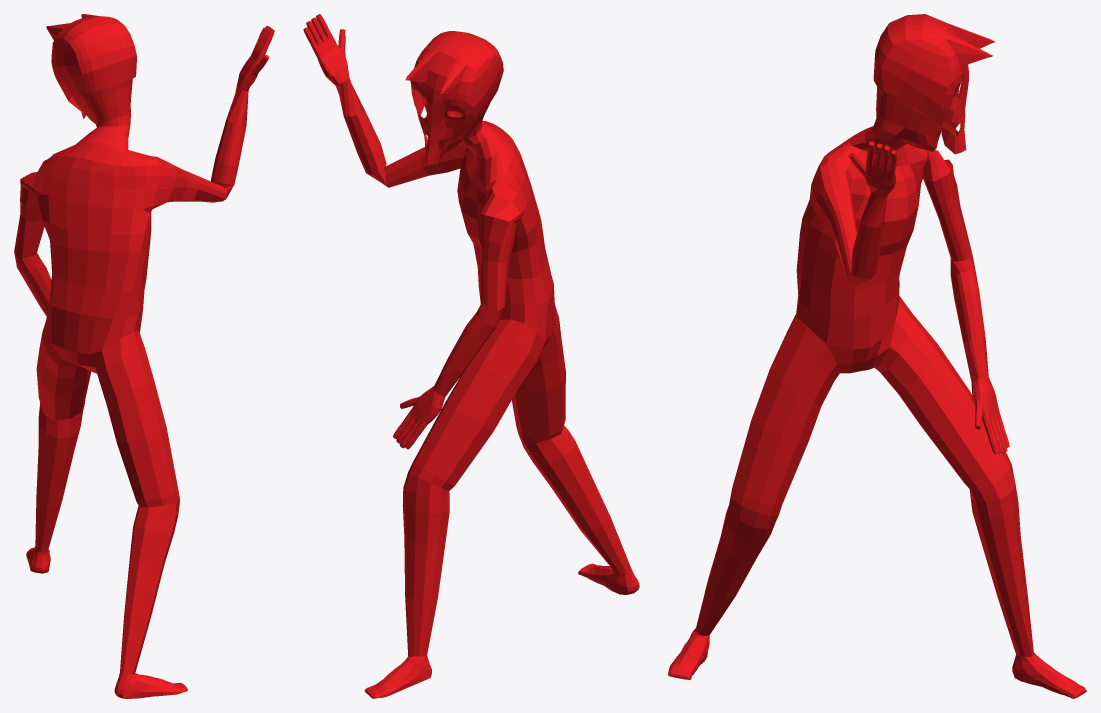
File: activaAlarma_000141.obj
3 views of the same model, side by side, from view 1: azimuth 30°, elevation 25°; view 2: azimuth 150°, elevation 25°; view 3: azimuth 270°, elevation 25° (orthographic). The views are drawn at different scales.
Visible parts, largest first — view 1: Plane.002_Plane.001; view 2: Plane.002_Plane.001; view 3: Plane.002_Plane.001.
Part boxes in pixels (x1,y1,x2,y2): Plane.002_Plane.001: (14,14,274,698); Plane.002_Plane.001: (303,14,639,698); Plane.002_Plane.001: (668,14,1086,698).
Bounding box in the file's own units: 2.79 × 6.66 × 3.76.
